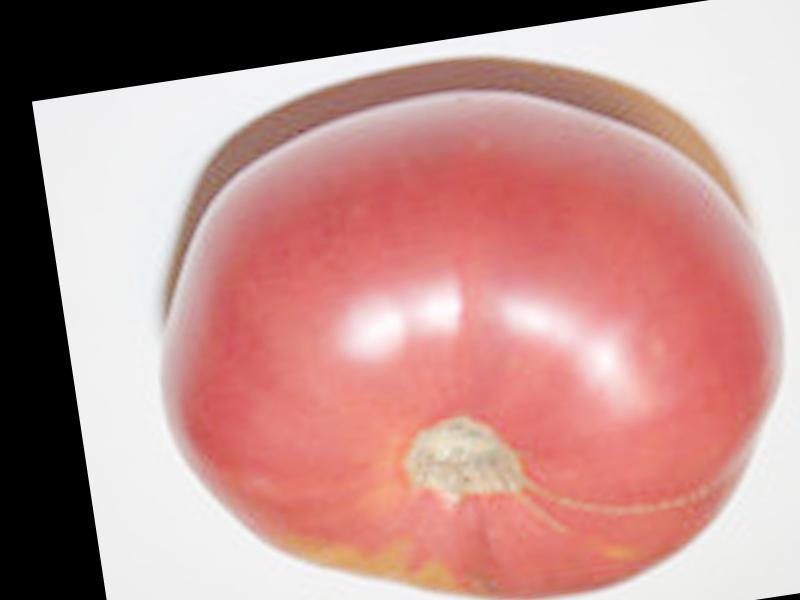Tomato: (122, 62, 800, 600)
